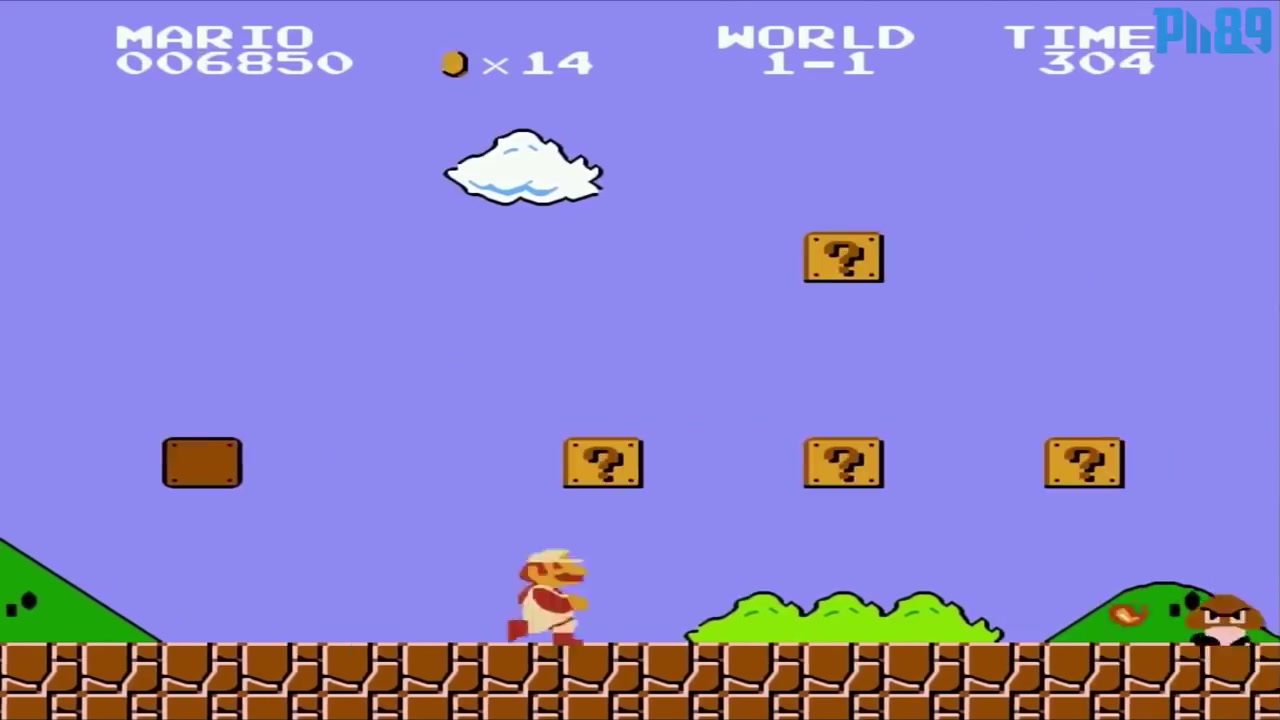mario: (498, 536, 594, 642)
